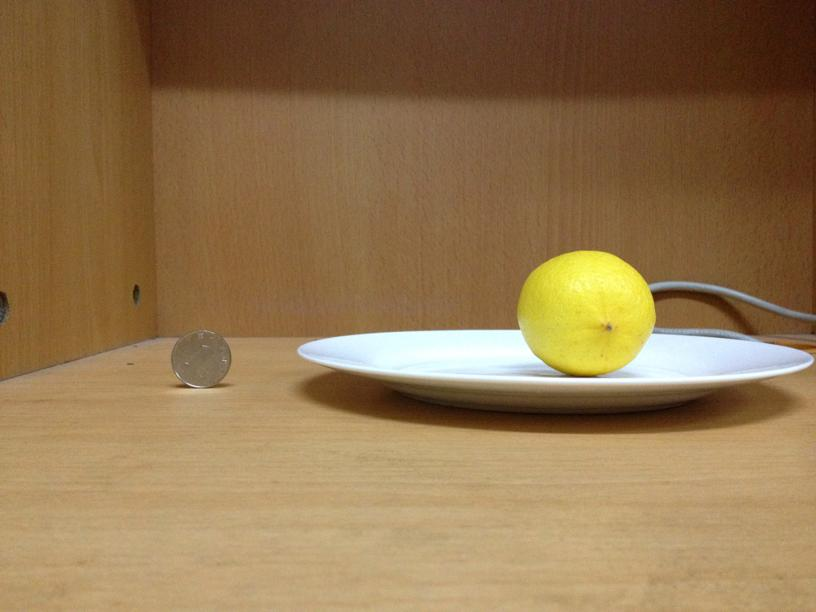coin: (171, 329, 232, 389)
lemon: (515, 247, 656, 374)
